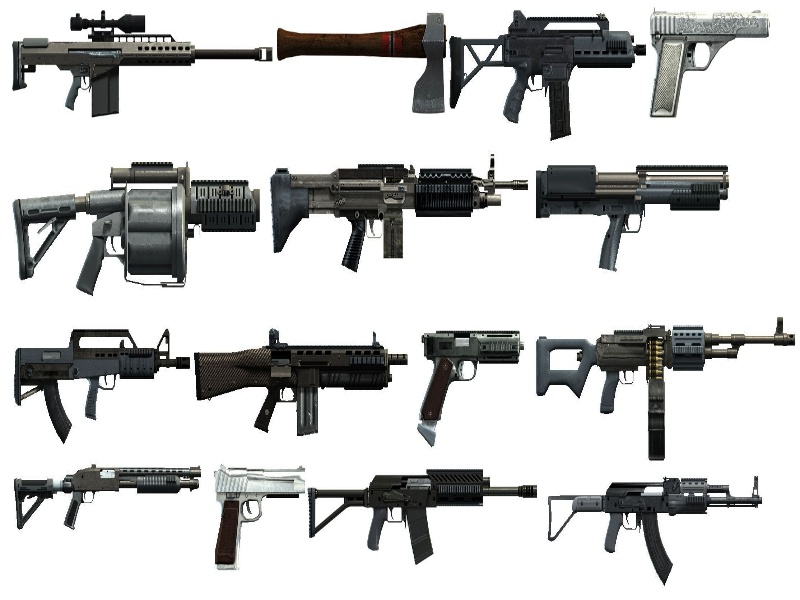gun: (535, 309, 800, 463), (11, 149, 263, 292), (3, 10, 277, 119), (274, 152, 527, 264), (547, 476, 800, 586), (450, 13, 645, 143), (7, 308, 194, 440), (195, 319, 405, 434), (532, 159, 727, 269), (311, 463, 544, 553), (276, 19, 448, 119), (648, 9, 772, 124), (8, 465, 212, 534), (419, 324, 530, 445), (211, 459, 310, 570)
